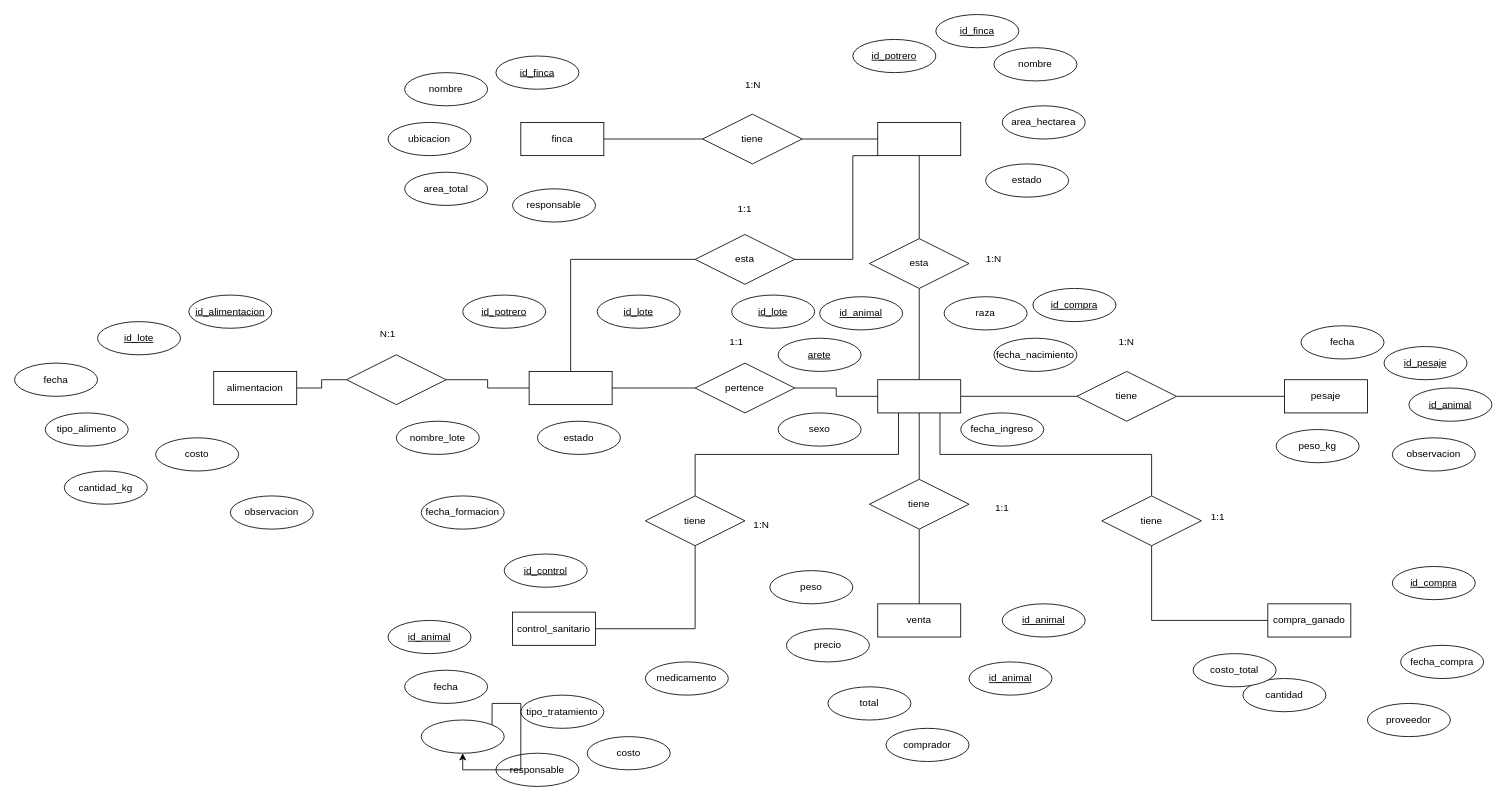
Some shapes in this 1506 by 801 pixel diagram are drawn without their labels. Here are the shapes that lost their labels. From the top down, the centre of each, then its label:
[919,139]: potrero
[396,379]: realiza
[570,388]: lote
[919,396]: animal
[462,736]: dosis
